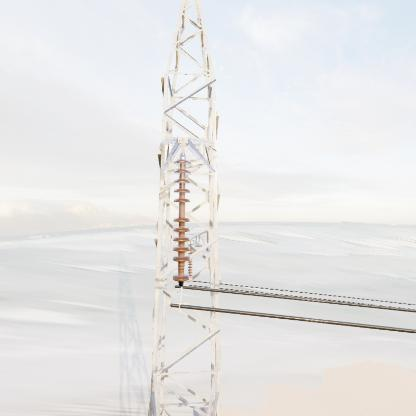insulator: (171, 157, 194, 291)
